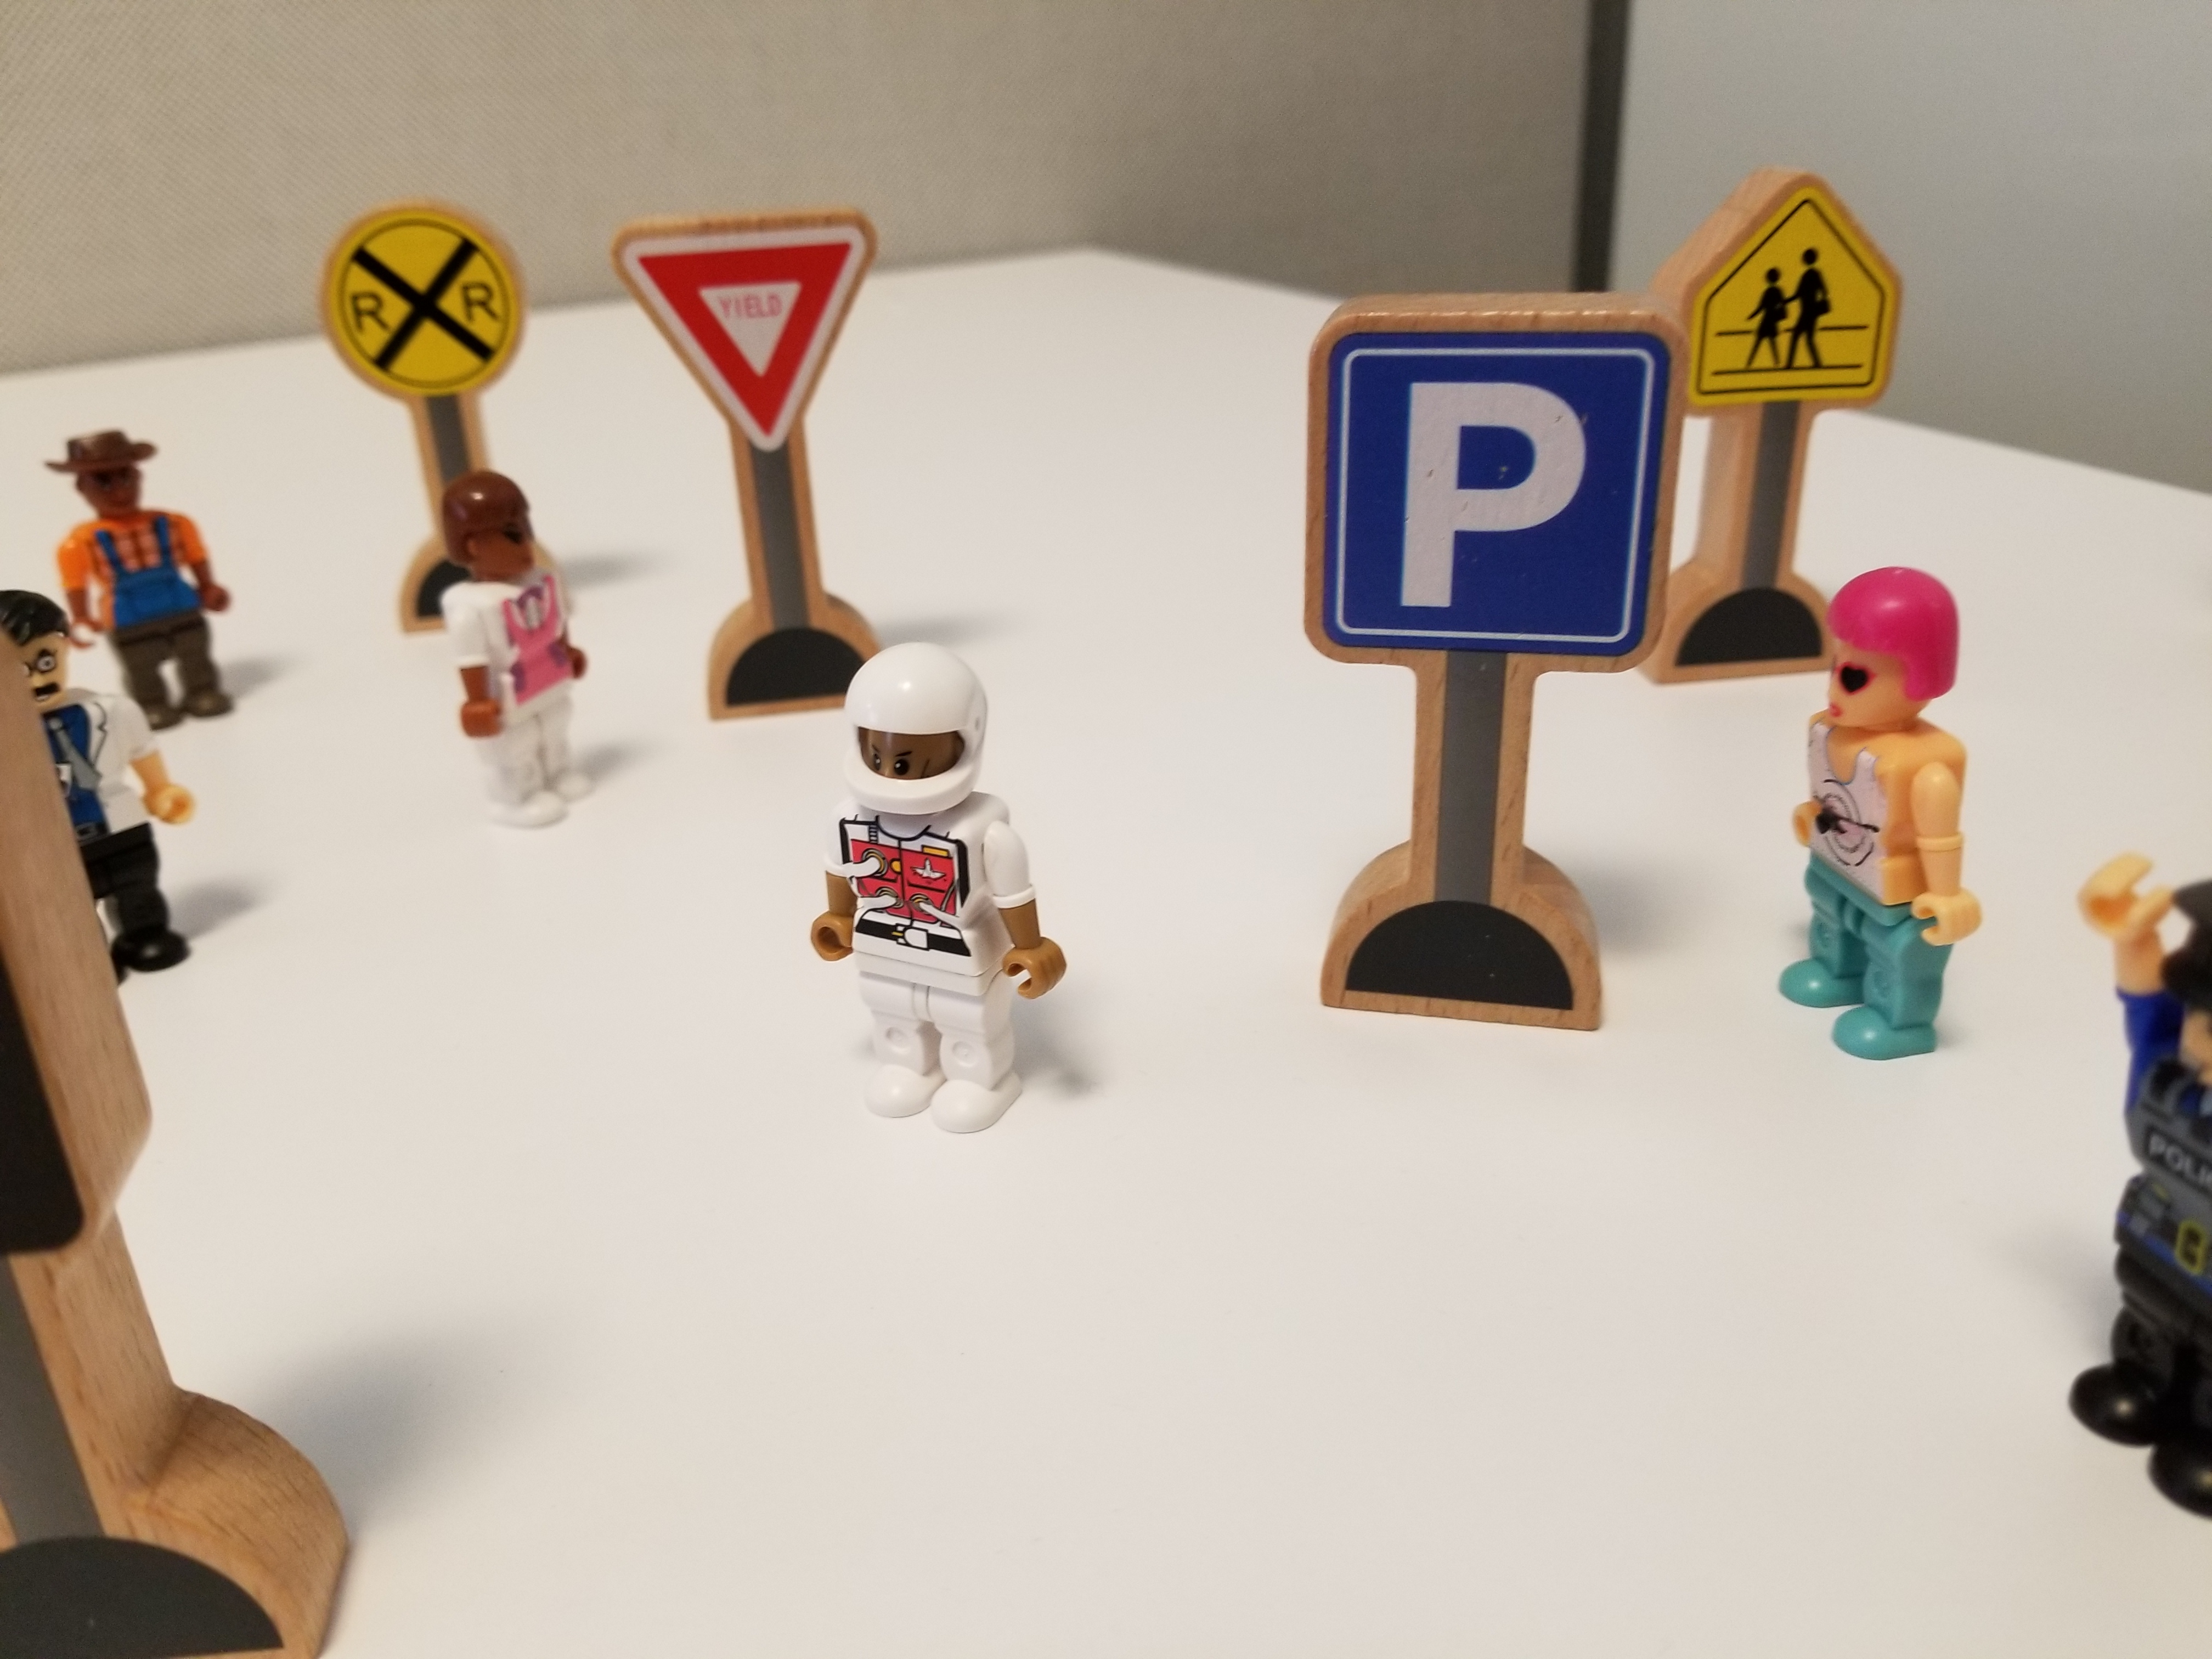Parking: (1276, 253, 1686, 763)
Pedestrian crossing: (1673, 153, 1923, 479)
Railroad Crossing: (293, 185, 552, 411)
Yield: (609, 192, 916, 488)
person: (780, 620, 1068, 1142), (1781, 552, 1998, 1105), (387, 436, 620, 850), (1, 582, 199, 896), (47, 398, 238, 701)
